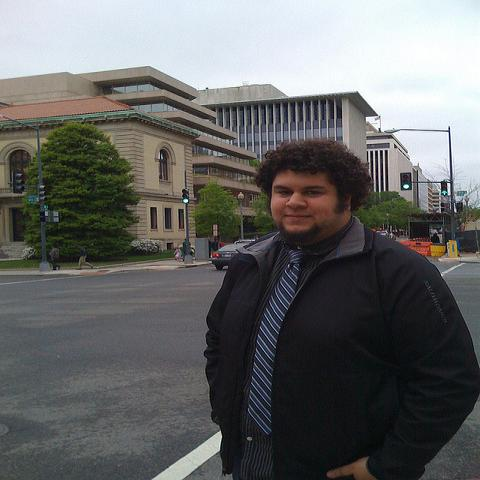car: (212, 243, 248, 269), (377, 231, 396, 240)
